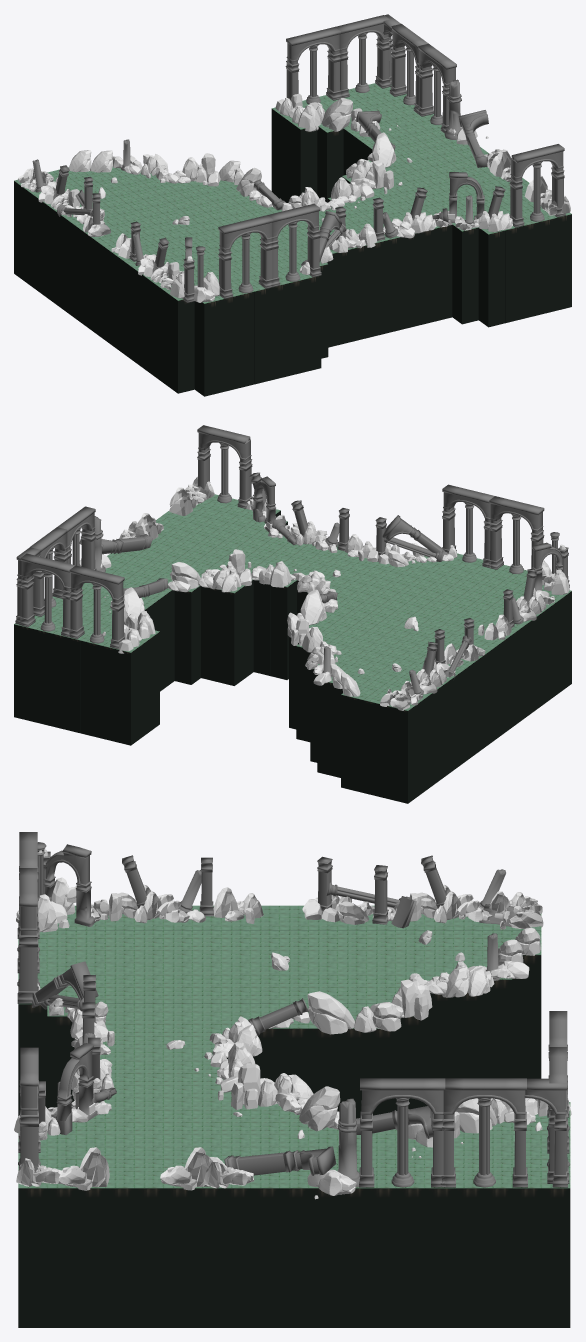
Rendered from Map_01 (1).fbx.
3 renders of one model, top to bottom at view 1: azimuth 30°, elevation 25°; view 2: azimuth 150°, elevation 25°; view 3: azimuth 270°, elevation 25°, orthographic. The views are drawn at different scales.
Parts seen in each view (by area): view 1: Sea_Temple_Map_01, Object1758.016, Sea_Temple_Map_01_1; view 2: Sea_Temple_Map_01, Object1758.016, Sea_Temple_Map_01_1; view 3: Sea_Temple_Map_01, Object1758.016, Sea_Temple_Map_01_1, Sea_Temple_Map_01_1.003.
Boxes of the visible parts, x1,y1,x2,y2 form: Sea_Temple_Map_01: (14, 83, 571, 396); Object1758.016: (32, 14, 565, 302); Sea_Temple_Map_01_1: (18, 93, 570, 302); Sea_Temple_Map_01: (14, 494, 571, 803); Object1758.016: (15, 425, 569, 697); Sea_Temple_Map_01_1: (79, 476, 569, 710); Sea_Temple_Map_01: (18, 905, 570, 1327); Object1758.016: (17, 832, 569, 1187); Sea_Temple_Map_01_1: (14, 849, 571, 1195); Sea_Temple_Map_01_1.003: (166, 930, 542, 1199).
Bounding box in the file's own units: 9601 × 3641 × 7646.
